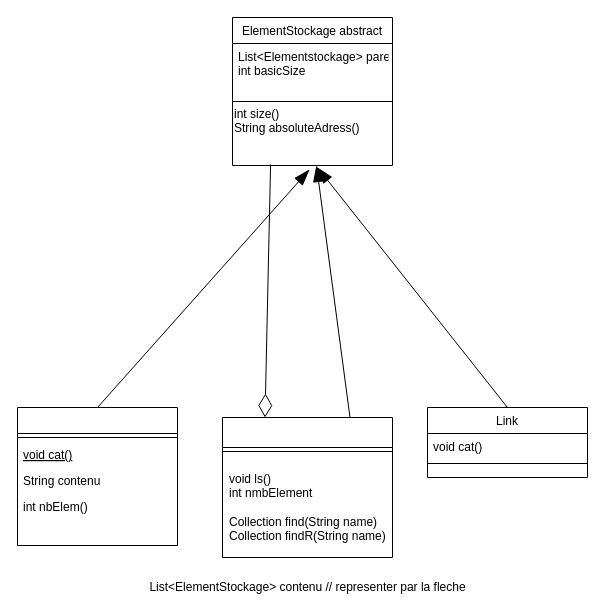
This 605x615 diagram has some shape labels left out. The shapes that lost their labels are listed below. From the top down, each one's box as (x1, y1, x2, y2) in pixels, then its label:
(16, 406, 178, 546): File
(222, 416, 392, 558): Directory
